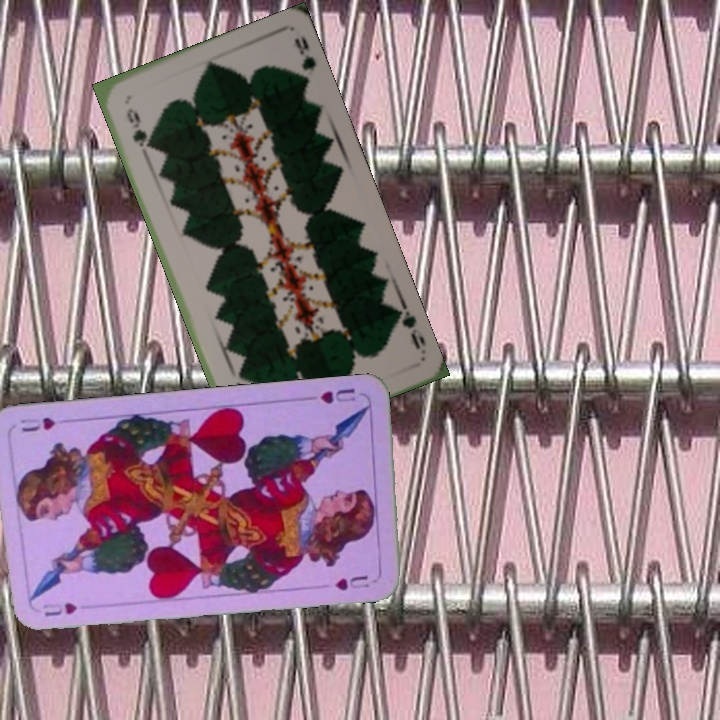G9: (390, 300, 428, 353), (122, 104, 153, 152)
HU: (317, 384, 358, 407), (39, 599, 79, 619)
